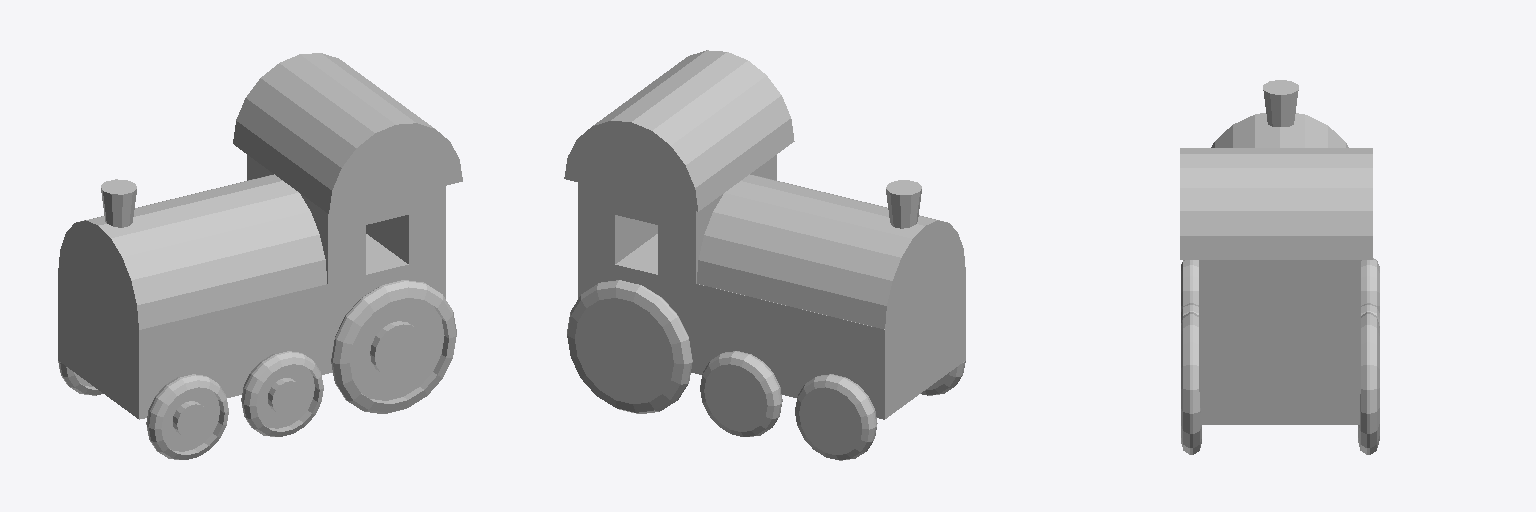
The model's file is train_wood.obj.
3 renders of one model, left to right at view 1: azimuth 30°, elevation 25°; view 2: azimuth 150°, elevation 25°; view 3: azimuth 270°, elevation 25°, orthographic.
Parts seen in each view (by area): view 1: Box01, Cylinder01, Cylinder02, ChamferCyl09, ChamferCyl07, ChamferCyl08, Cylinder03, ChamferCyl12; view 2: Box01, Cylinder01, Cylinder02, ChamferCyl11, ChamferCyl12, ChamferCyl10, Cylinder03, ChamferCyl07; view 3: Box01, Cylinder02, Cylinder01, ChamferCyl11, ChamferCyl09, Cylinder03, ChamferCyl12, ChamferCyl07.
Boxes of the visible parts, x1=… form: Box01: x1=58, y1=155, x2=445, y2=419; Cylinder01: x1=58, y1=174, x2=326, y2=329; Cylinder02: x1=233, y1=53, x2=462, y2=213; ChamferCyl09: x1=331, y1=280, x2=456, y2=413; ChamferCyl07: x1=146, y1=374, x2=228, y2=459; ChamferCyl08: x1=241, y1=351, x2=323, y2=436; Cylinder03: x1=101, y1=179, x2=136, y2=227; ChamferCyl12: x1=58, y1=361, x2=102, y2=395; Box01: x1=578, y1=155, x2=965, y2=419; Cylinder01: x1=697, y1=174, x2=965, y2=329; Cylinder02: x1=564, y1=50, x2=794, y2=211; ChamferCyl11: x1=567, y1=280, x2=692, y2=413; ChamferCyl12: x1=795, y1=374, x2=877, y2=460; ChamferCyl10: x1=700, y1=351, x2=782, y2=436; Cylinder03: x1=886, y1=180, x2=921, y2=228; ChamferCyl07: x1=921, y1=361, x2=965, y2=395; Box01: x1=1199, y1=260, x2=1360, y2=424; Cylinder02: x1=1180, y1=148, x2=1372, y2=259; Cylinder01: x1=1211, y1=113, x2=1348, y2=147; ChamferCyl11: x1=1358, y1=312, x2=1379, y2=454; ChamferCyl09: x1=1181, y1=312, x2=1201, y2=454; Cylinder03: x1=1263, y1=80, x2=1298, y2=126; ChamferCyl12: x1=1361, y1=258, x2=1379, y2=311; ChamferCyl07: x1=1181, y1=260, x2=1198, y2=310.
Bounding box in the file's own units: 119 × 105 × 65.23.